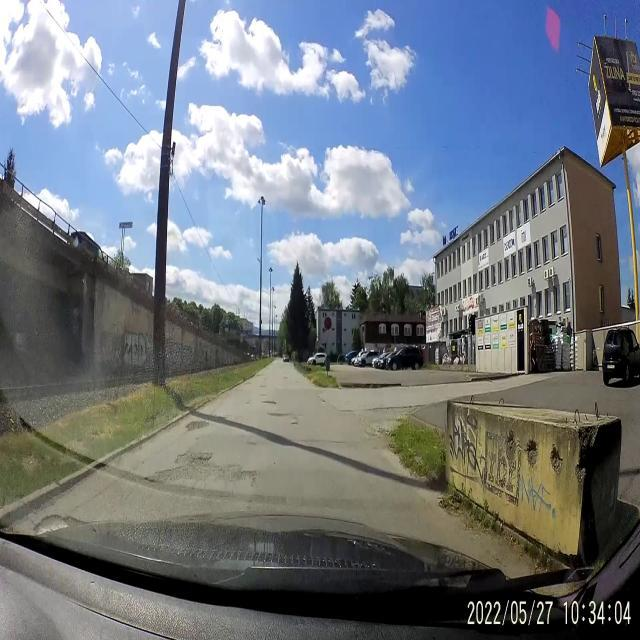Pothole: (143, 466, 260, 482), (176, 446, 210, 465), (184, 416, 210, 434), (266, 411, 294, 422), (260, 396, 278, 409), (290, 421, 298, 426), (260, 385, 268, 388)
